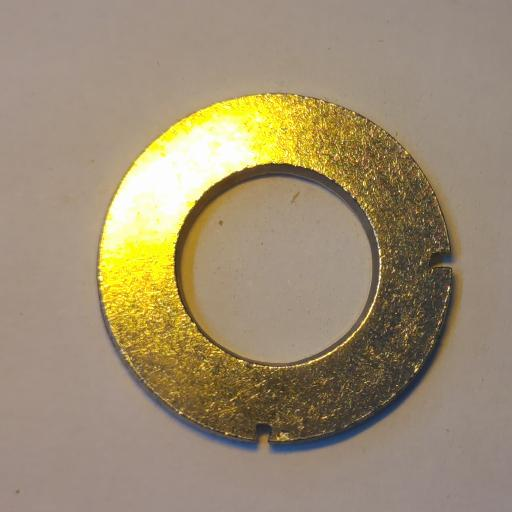burr: (428, 250, 452, 271), (254, 422, 273, 443)
